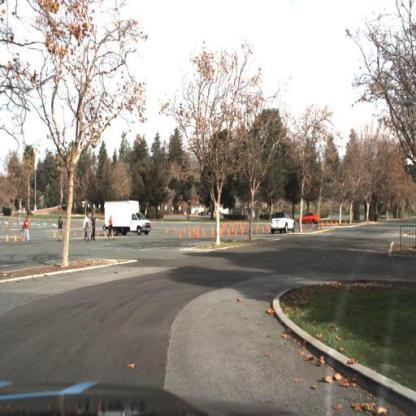car: (270, 210, 298, 235), (299, 210, 322, 224)
pedestrian: (22, 216, 33, 245), (21, 216, 32, 244), (84, 213, 93, 245), (107, 214, 117, 241), (58, 215, 65, 243), (92, 212, 98, 241)
truck: (105, 197, 153, 236)
